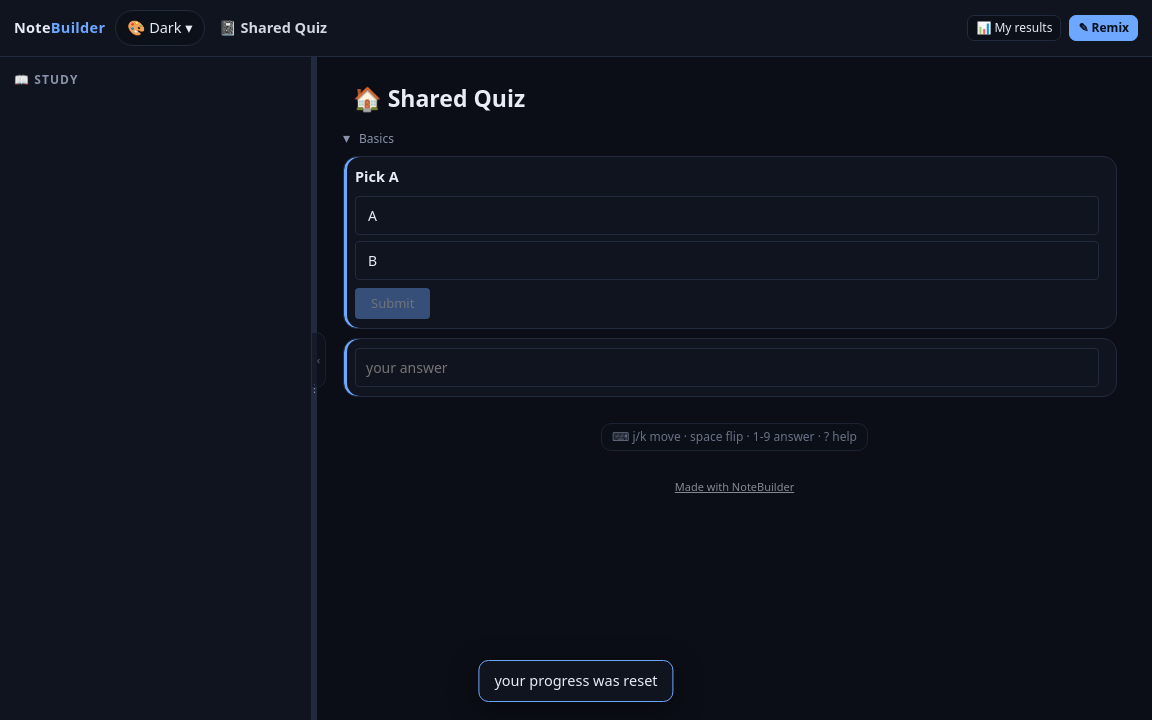
Test: Reader — results and credit › opens My results from the shared chrome, reflecting live progress
Click the button with class "option" showing "A".
click(372, 215)  # box x1=355 y1=196 x2=1099 y2=235
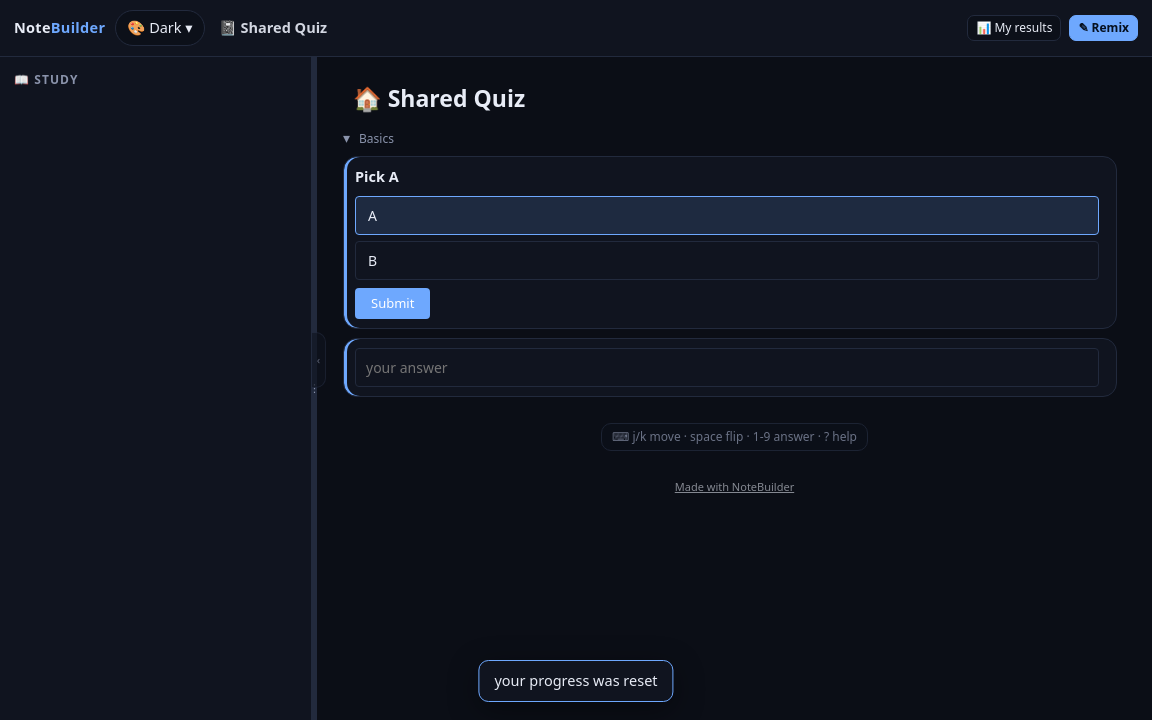
Click the button with class "submit".
click(393, 304)  # box x1=355 y1=288 x2=430 y2=319
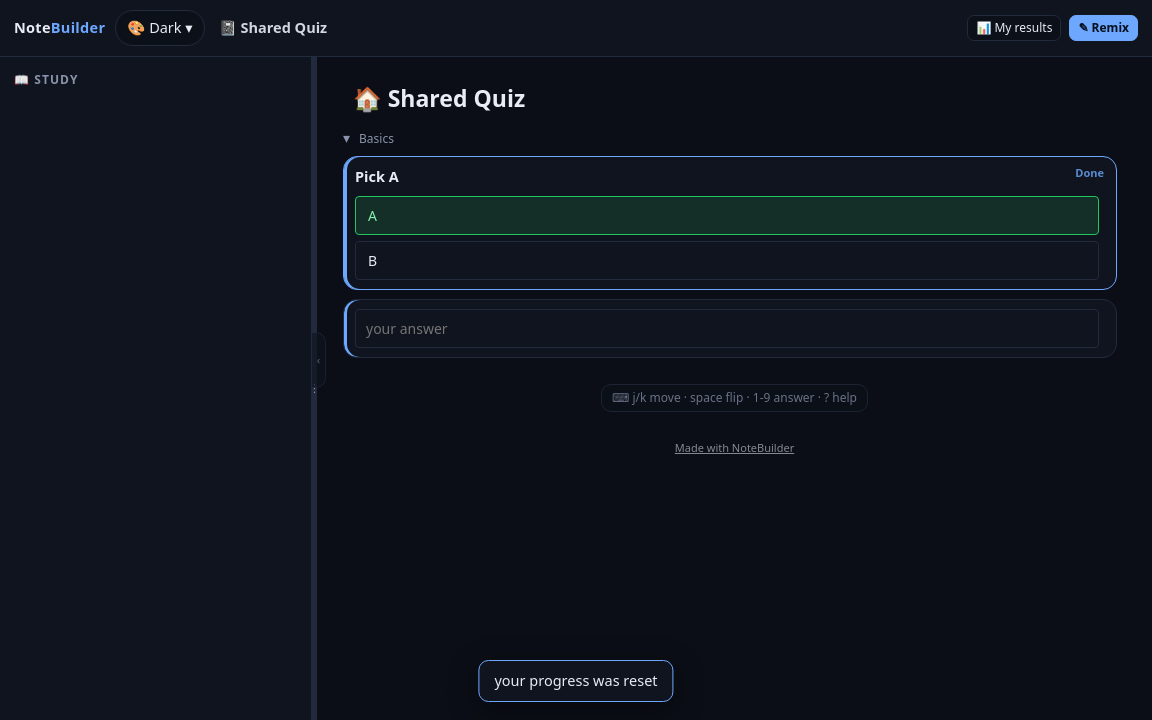
Click the button "📊 My results".
click(1014, 28)  # box x1=967 y1=15 x2=1061 y2=41
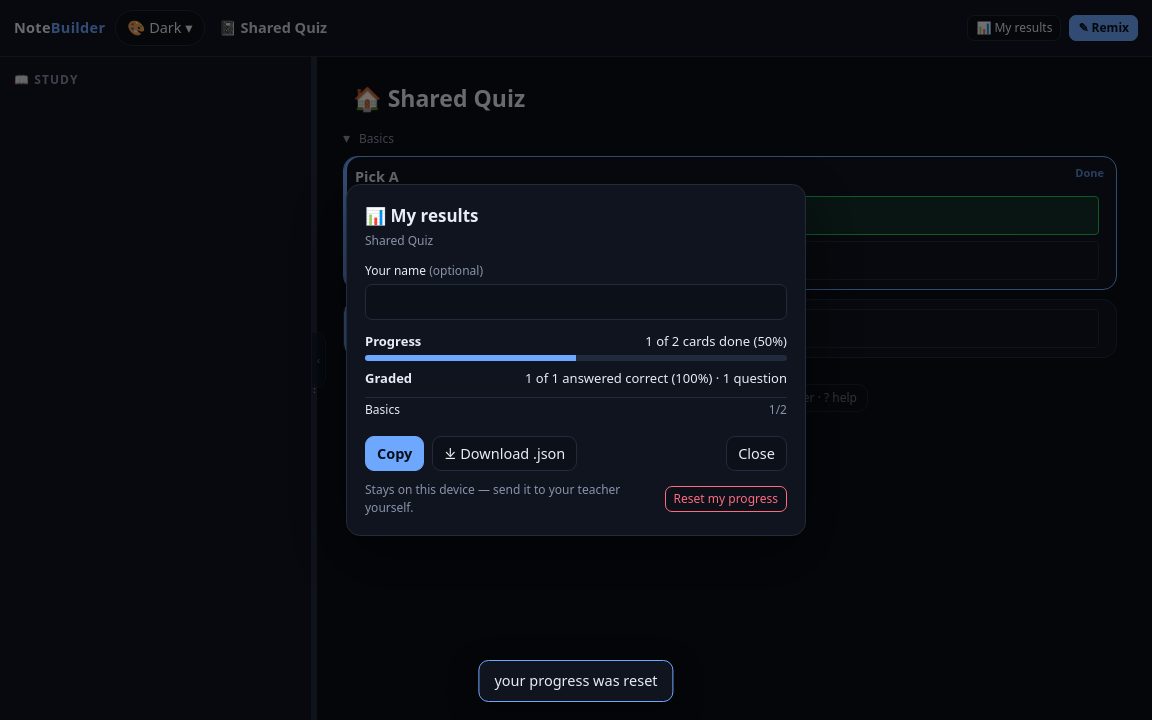
Expected: the dialog shows "1 of 2 cards done", x1=645 y1=332 x2=787 y2=350
Click the button "Close".
click(757, 454)  # box x1=726 y1=436 x2=787 y2=472
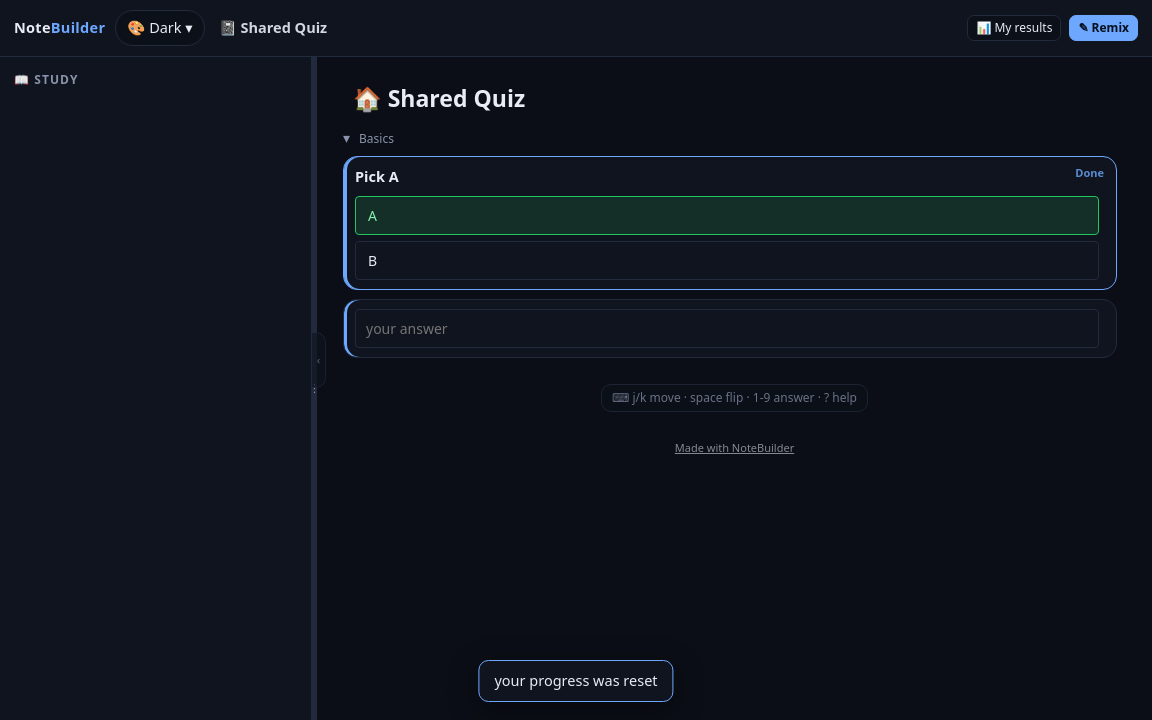
Expected: the dialog is gone
